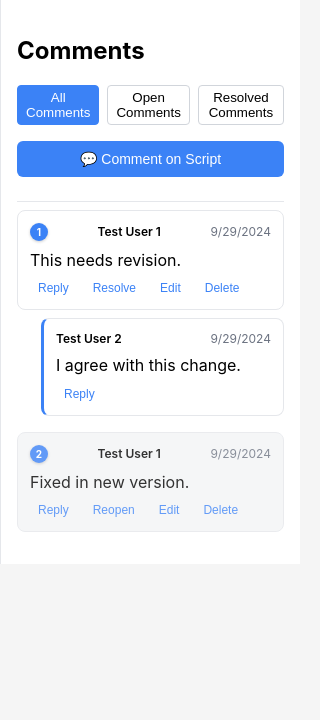
Test: CommentSidebar › Reply Functionality - TDD (Fixed: Mock pattern corrected) › should show reply form when reply button is clicked
The width and height of the screenshot is (320, 720).
# Click first reply button
Click the button "Reply" below "This needs revision." at {"x": 53, "y": 288}, box top-left (30, 279), bottom-right (77, 297)
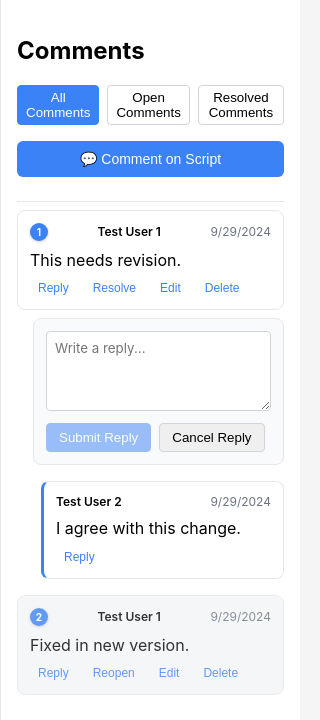
Expected: the form named "reply form" is shown, top-left (33, 318), bottom-right (284, 465)
Expected: the text box named "reply text" is shown, top-left (46, 331), bottom-right (271, 411)
Expected: the button "Submit Reply" is shown, top-left (46, 423), bottom-right (151, 452)
